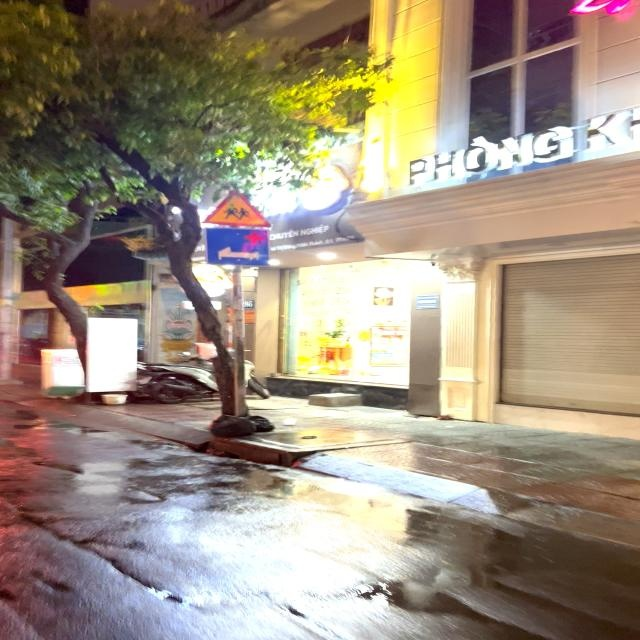bien_hieu_lenh: (206, 228, 272, 267), (206, 188, 270, 226)
